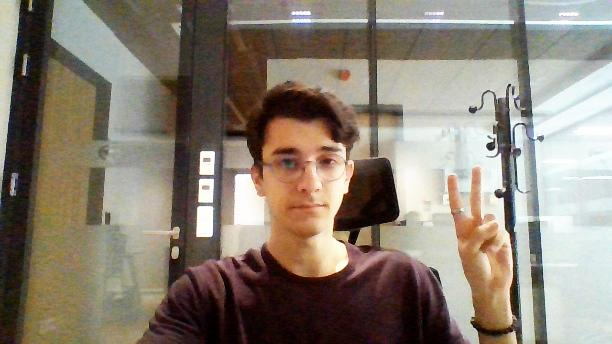Scissors: (444, 164, 516, 291)
